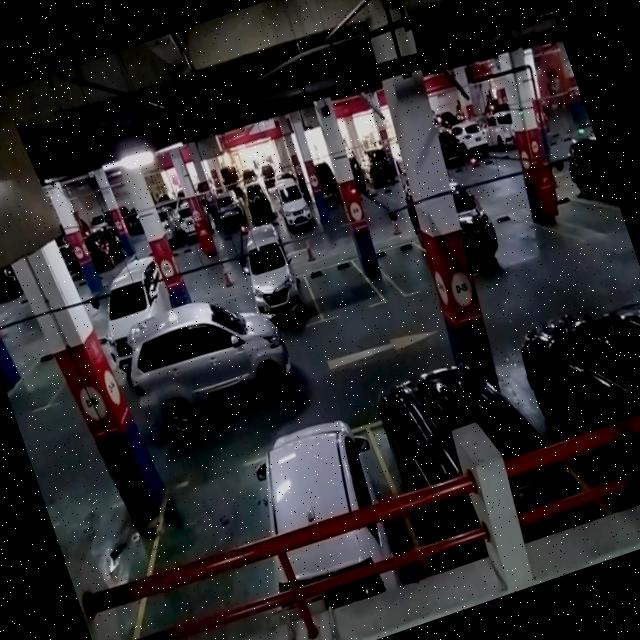empty: (121, 454, 307, 640), (301, 250, 381, 327), (374, 234, 438, 303)
occupied: (364, 370, 555, 580), (248, 414, 424, 618), (237, 239, 323, 343)
